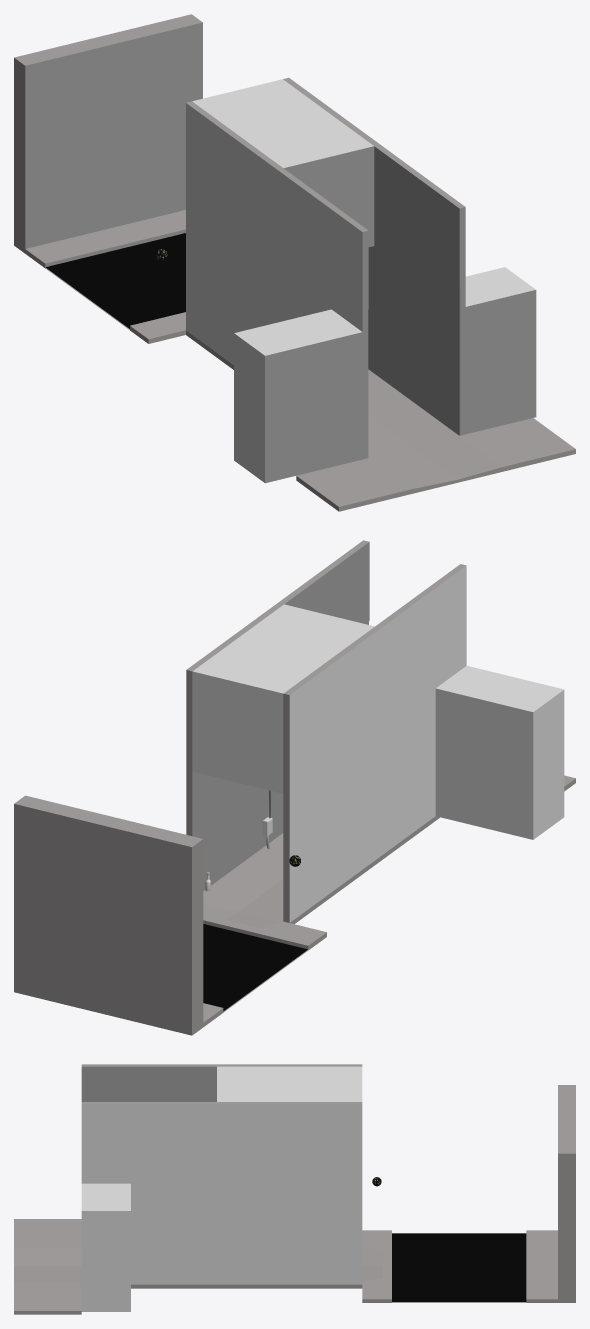
The model's file is 3D Ball Animation fixed.fbx.
3 views of the same model, one above another, from view 1: azimuth 30°, elevation 25°; view 2: azimuth 150°, elevation 25°; view 3: azimuth 270°, elevation 25° (orthographic). The views are drawn at different scales.
Visible parts, largest first — view 1: Alley Itself; view 2: Alley Itself; view 3: Alley Itself.
Boxes of the visible parts, x1,y1,x2,y2 form: Alley Itself: (14, 14, 575, 511); Alley Itself: (14, 540, 575, 1035); Alley Itself: (14, 1064, 575, 1314).
Bounding box in the file's own units: 1901 × 1556 × 4300.
